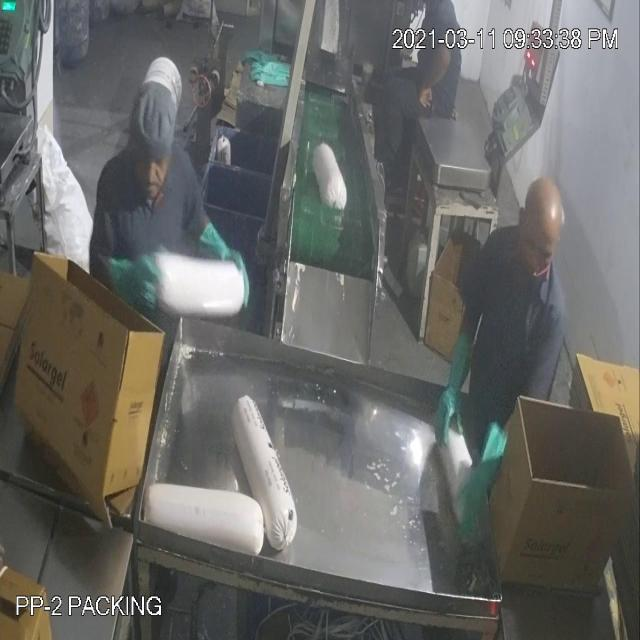gloves: (454, 412, 509, 554), (426, 309, 476, 447)
no-gloves: (409, 37, 455, 111)
